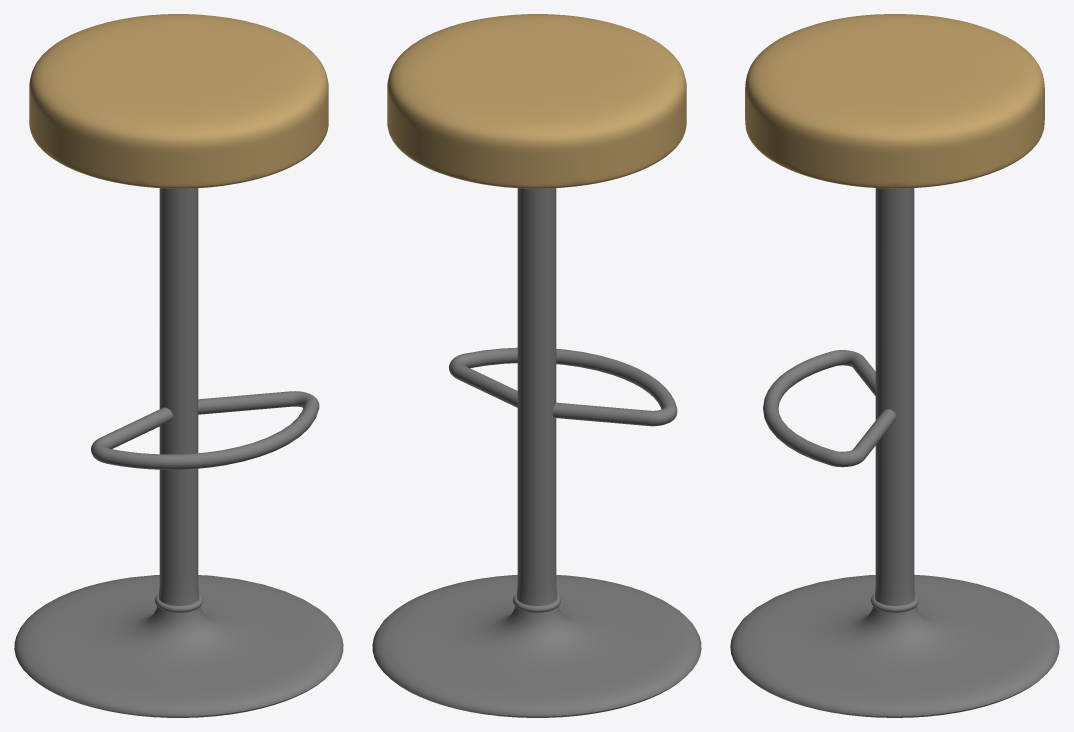
File: 749_counter_chair.glb
The picture shows the model from 3 angles, left to right: view 1: azimuth 30°, elevation 25°; view 2: azimuth 150°, elevation 25°; view 3: azimuth 270°, elevation 25°; orthographic projection.
Visible parts, largest first — view 1: Body; view 2: Body; view 3: Body.
Part boxes in pixels (x1=…): Body: x1=14, y1=14, x2=343, y2=717; Body: x1=372, y1=14, x2=701, y2=717; Body: x1=730, y1=14, x2=1059, y2=717.
Size of the model in its own units: 0.3843 by 0.75 by 0.3843.
